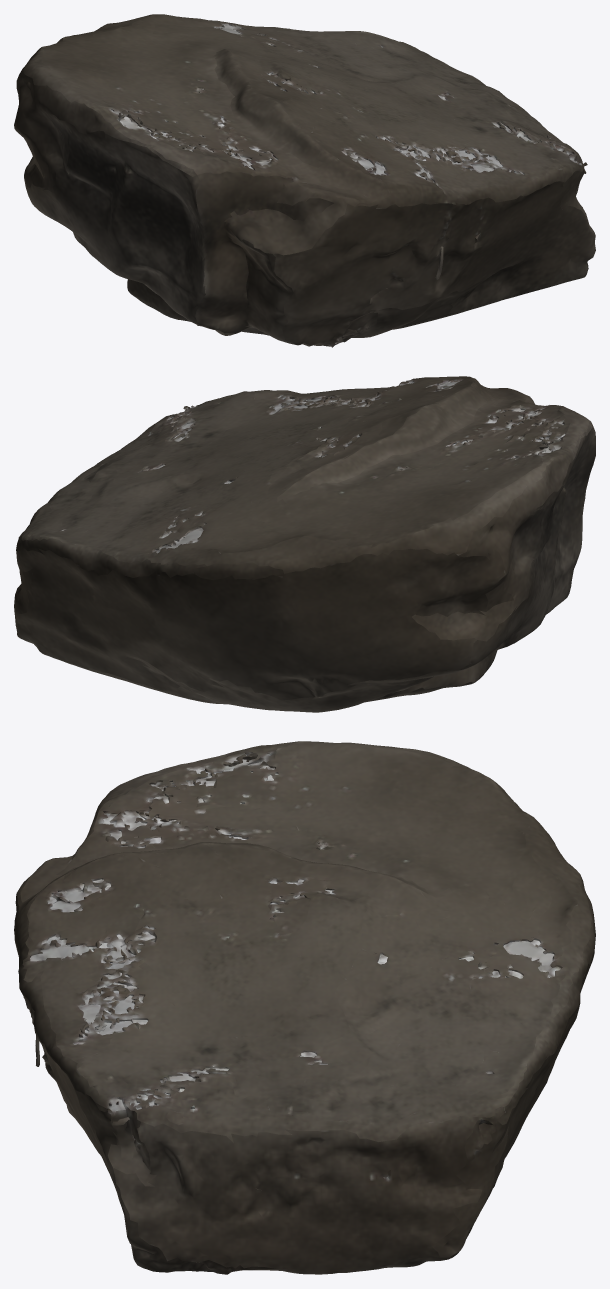
The picture shows the model from 3 angles, top to bottom: view 1: azimuth 30°, elevation 25°; view 2: azimuth 150°, elevation 25°; view 3: azimuth 270°, elevation 25°; orthographic projection. The views are drawn at different scales.
Visible parts, largest first — view 1: world; view 2: world; view 3: world.
Boxes of the visible parts, x1=… form: world: x1=14, y1=14, x2=595, y2=347; world: x1=14, y1=376, x2=595, y2=712; world: x1=14, y1=741, x2=595, y2=1274.
Bounding box in the file's own units: 0.45 × 0.2189 × 0.4119.
1 material, 1 textured.
